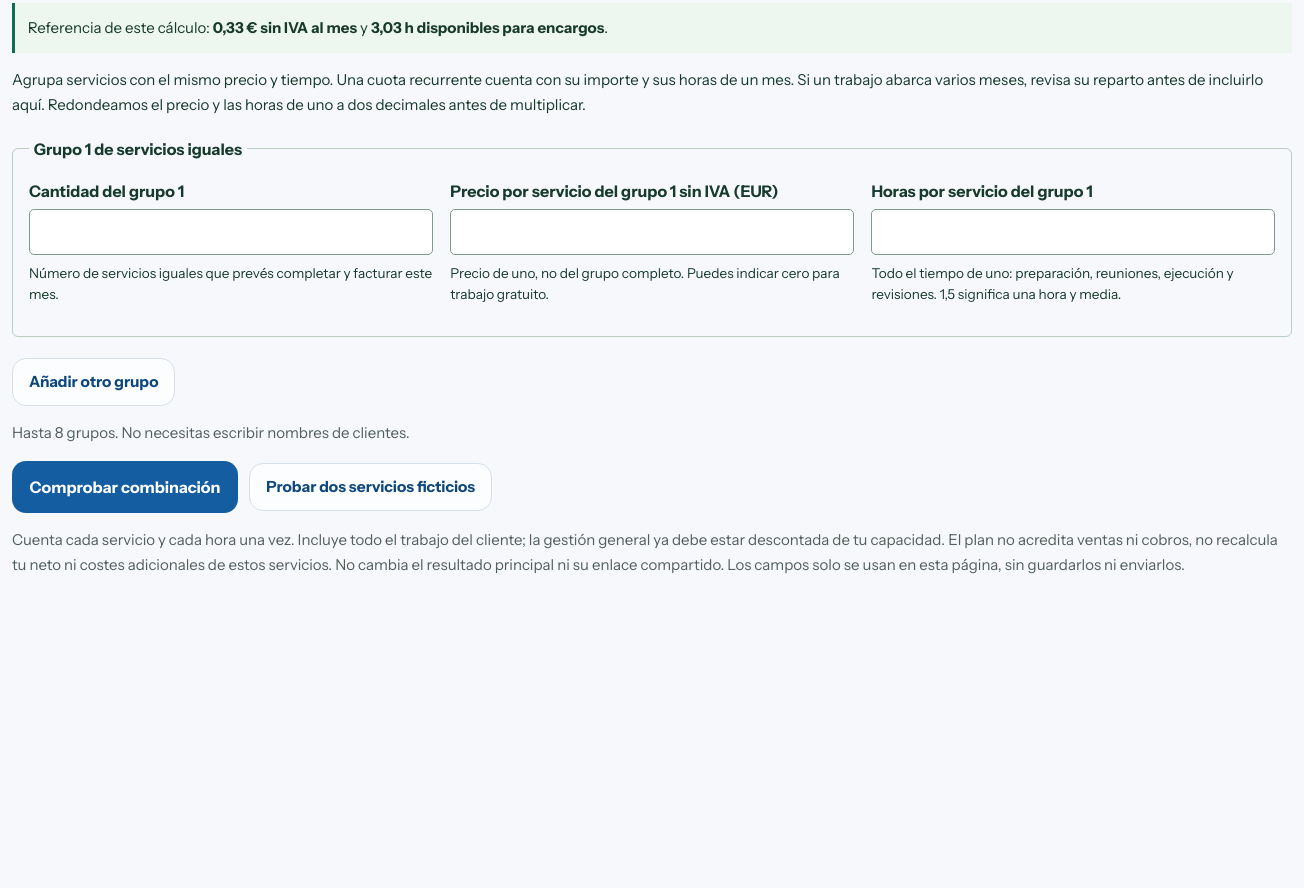
Scenario: monthly portfolio editor › accepts Spanish decimals and normalizes unit values before multiplication
Type "3" into the 1st field at (231, 232), box [29,209,433,255]
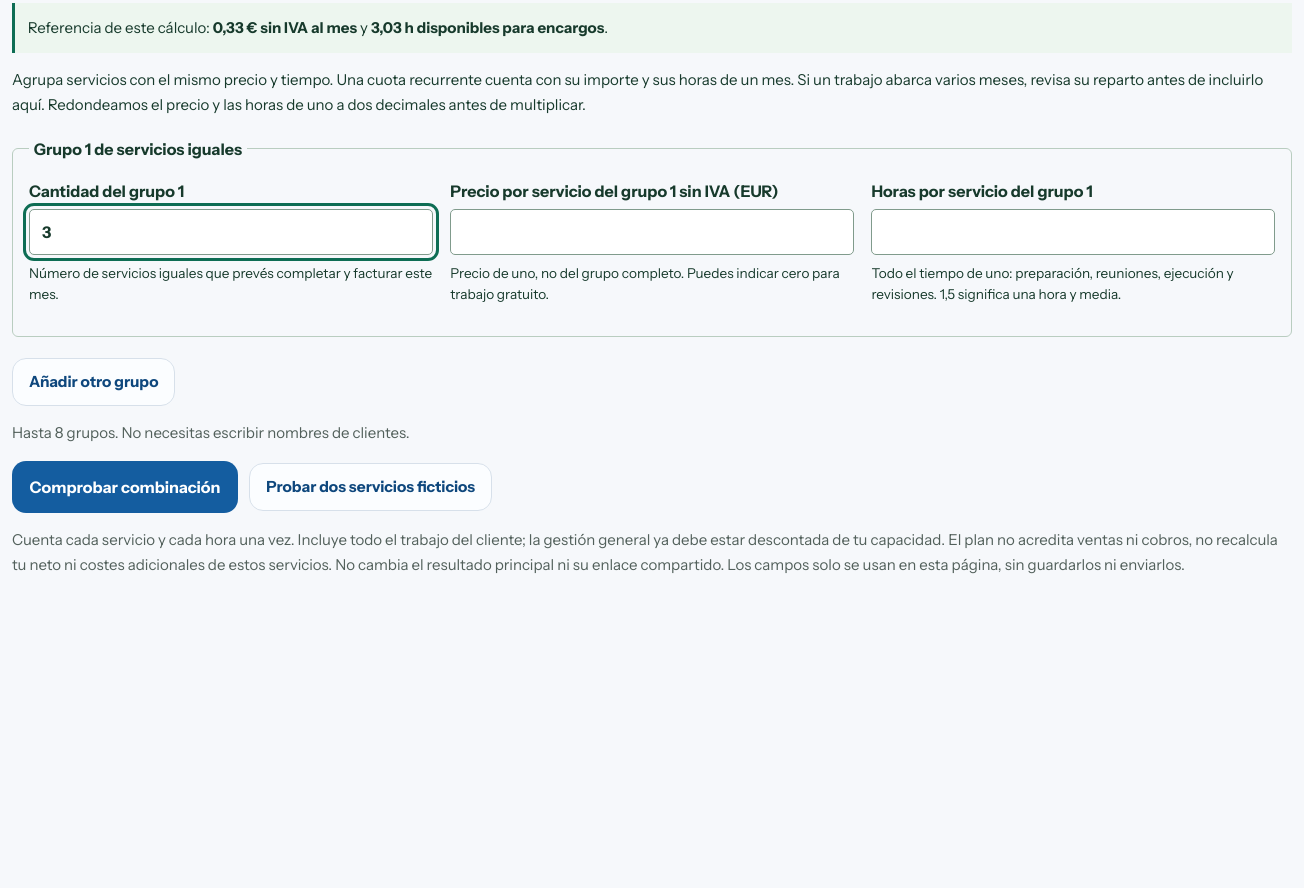
Type "0,105" into the 2nd field at (652, 232), box [450,209,854,255]
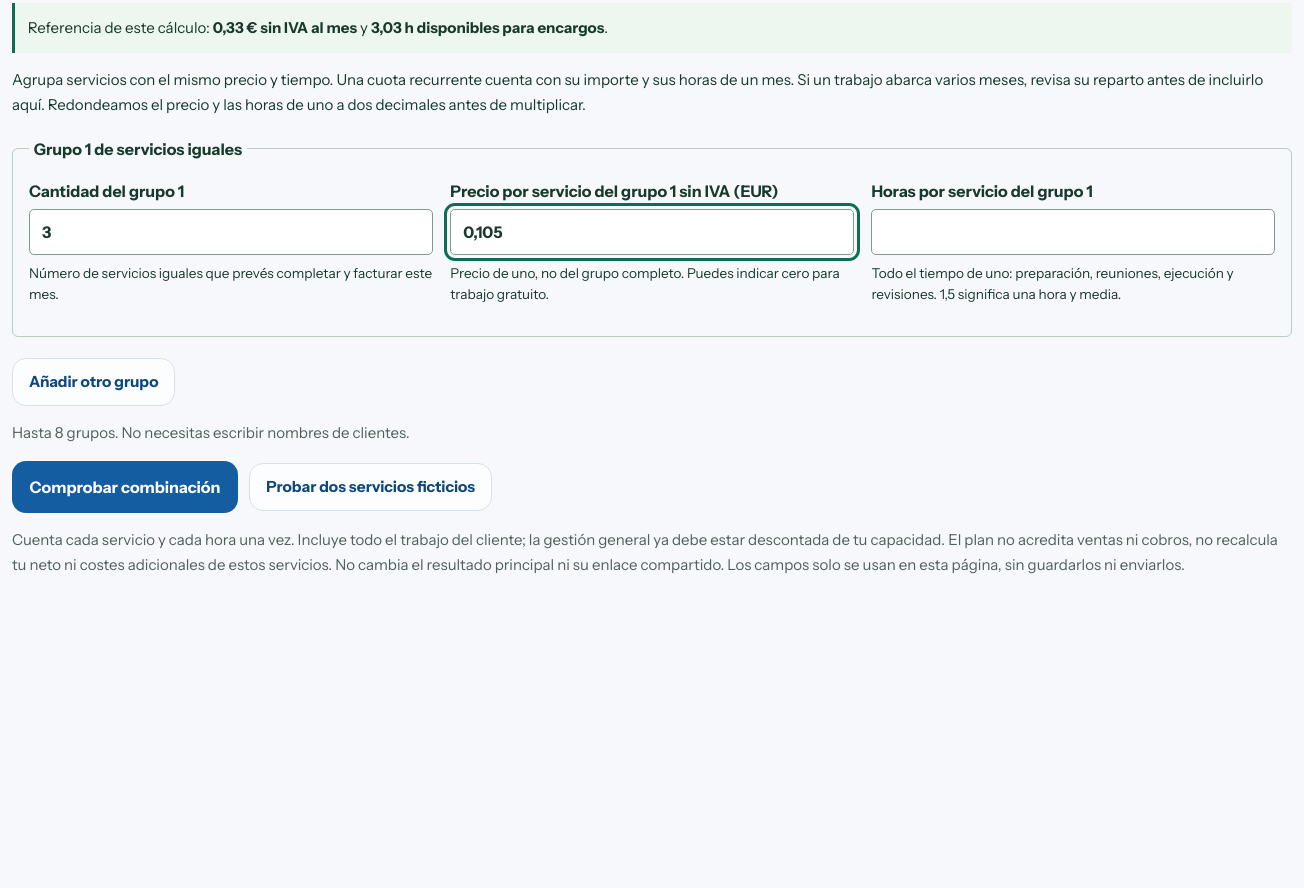
Type "1,005" into the 3rd field at (1073, 232), box [871,209,1275,255]
Then press Enter
(page scrolled)
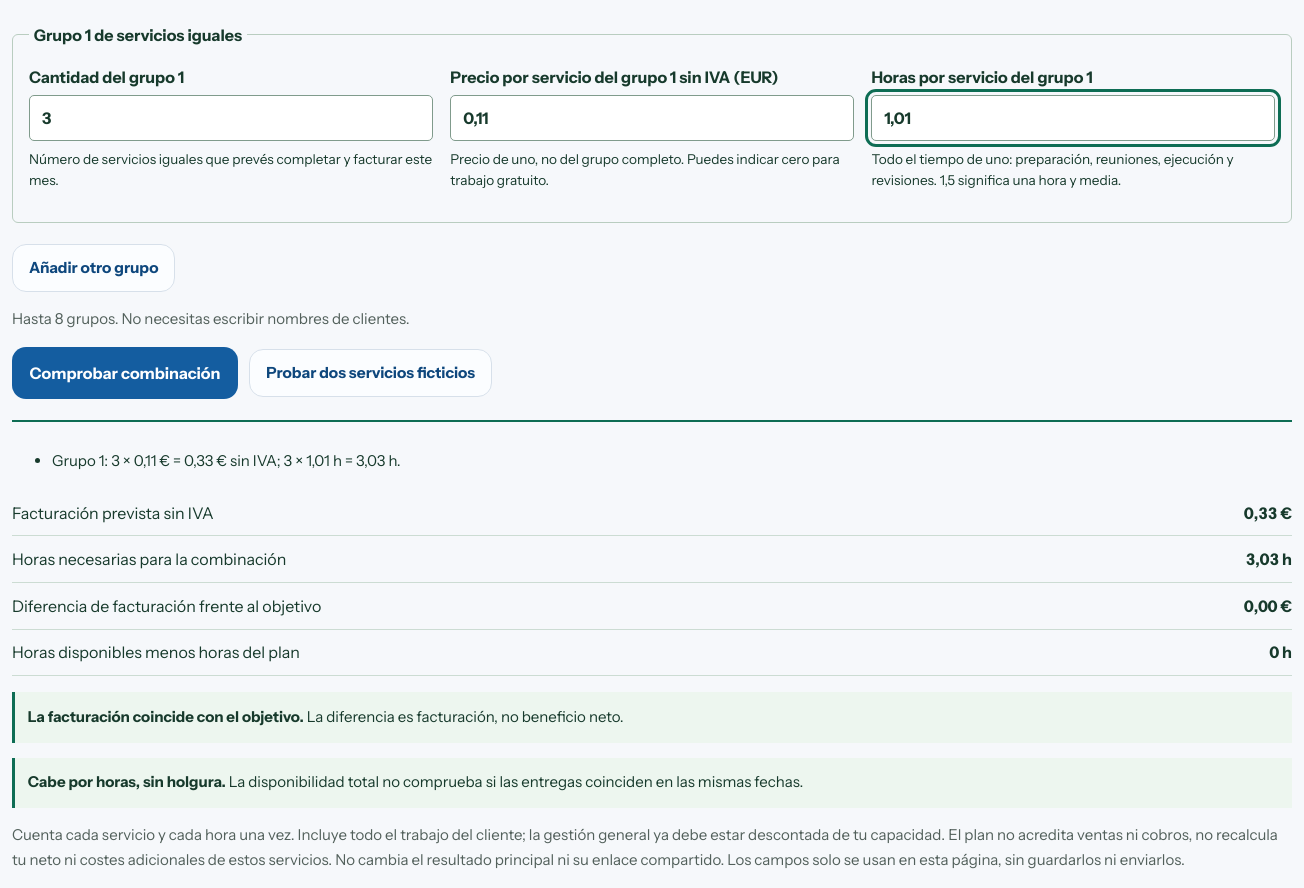
Check: the message named "Plan de servicios combinados" shows "La facturación coincide con el objetivo", box [28,707,304,726]
Check: the message named "Plan de servicios combinados" shows "Cabe por horas, sin holgura", box [28,772,226,791]
